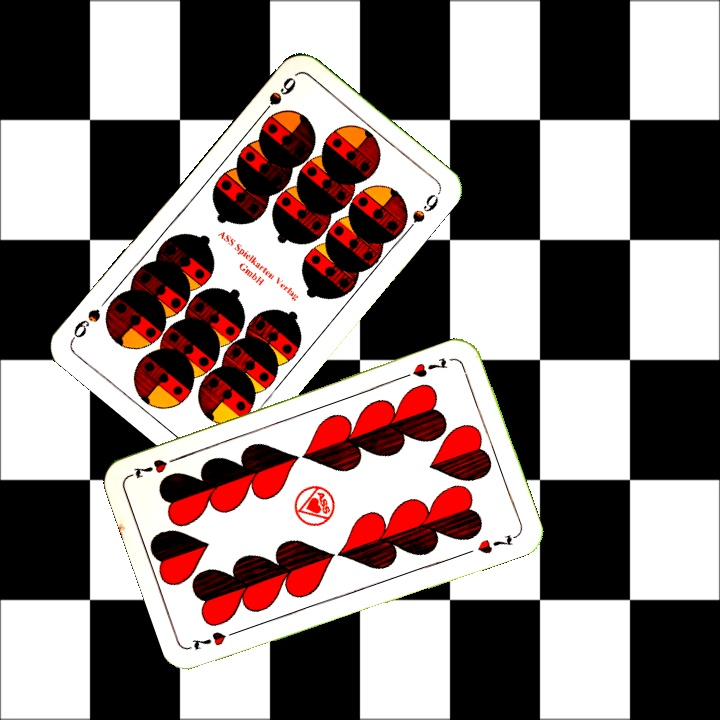H7: (188, 625, 244, 653), (408, 353, 450, 380)
S9: (255, 72, 299, 121)
